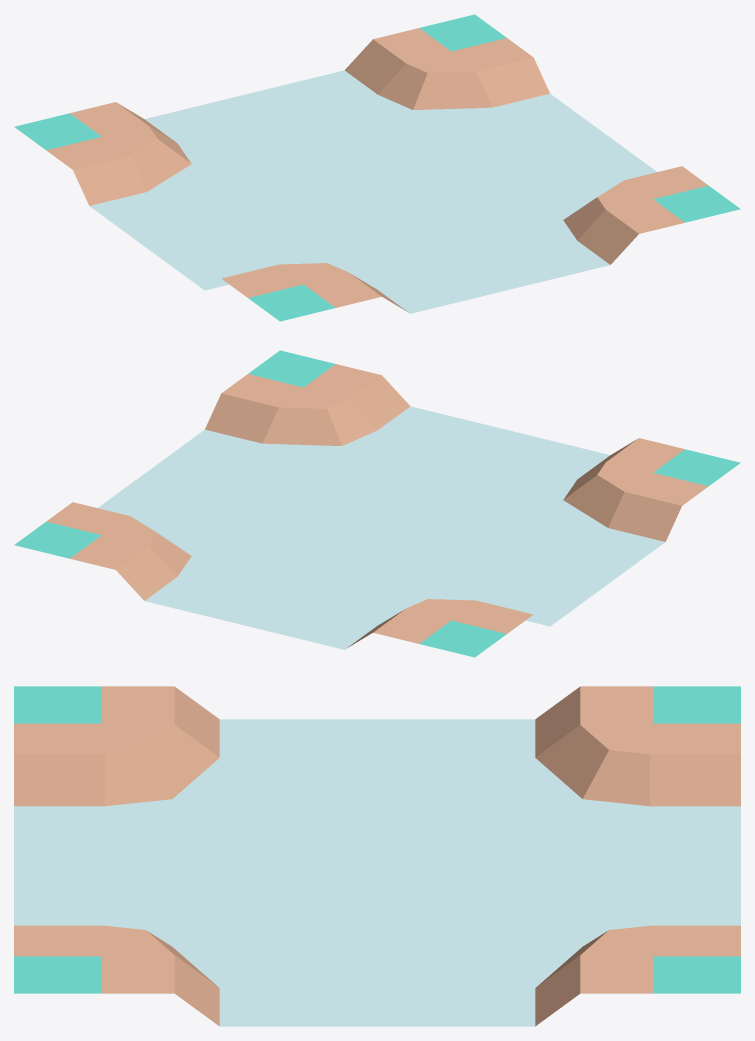
Rendered from ground_riverCross.glb.
3 renders of one model, top to bottom at view 1: azimuth 30°, elevation 25°; view 2: azimuth 150°, elevation 25°; view 3: azimuth 270°, elevation 25°, orthographic. The views are drawn at different scales.
Parts seen in each view (by area): view 1: ground_riverCross; view 2: ground_riverCross; view 3: ground_riverCross.
Boxes of the visible parts, <box> form: ground_riverCross: <box>14,14,740,321</box>; ground_riverCross: <box>14,350,740,657</box>; ground_riverCross: <box>14,686,740,1026</box>.
Bounding box in the file's own units: 1 × 0.05 × 1.
